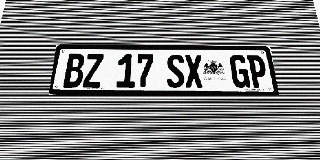1: (116, 54, 135, 88)
7: (135, 54, 154, 88)
B: (63, 54, 85, 88)
G: (229, 55, 251, 88)
P: (247, 55, 269, 88)
S: (166, 54, 185, 88)
X: (184, 54, 204, 88)
Z: (82, 54, 104, 88)
